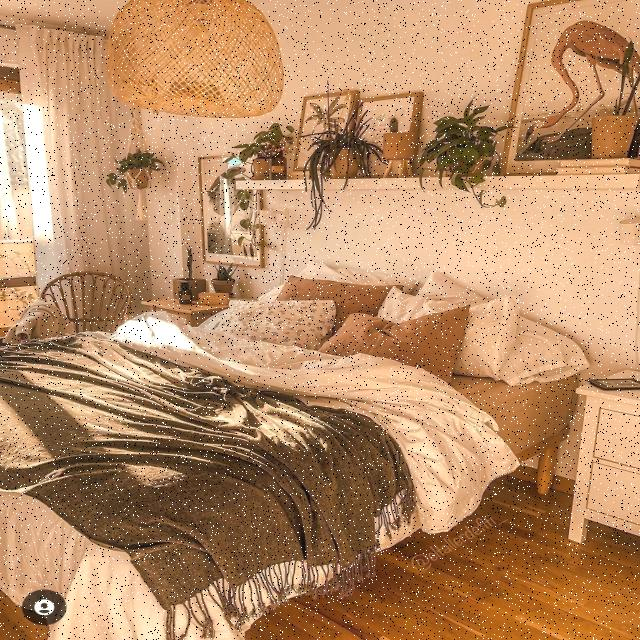bed: (0, 262, 584, 636)
